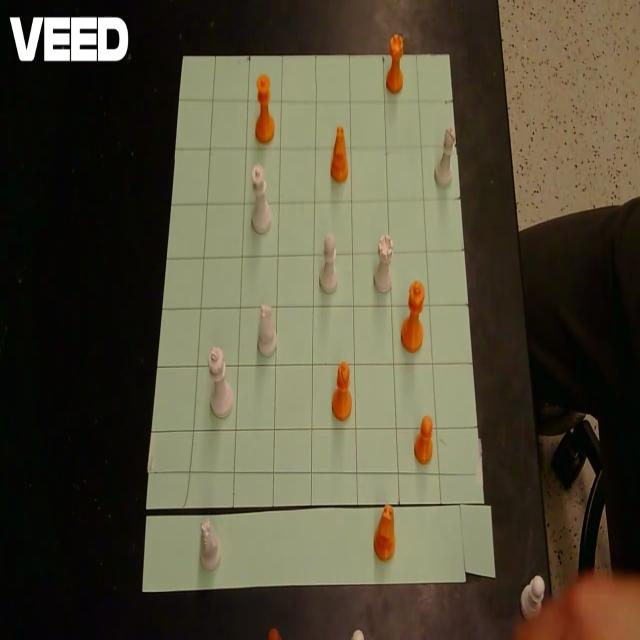orange_bishop: (332, 360, 352, 421)
orange_king: (400, 280, 426, 352)
orange_knight: (374, 503, 396, 561), (331, 126, 348, 182), (268, 628, 281, 640)
orange_pawn: (414, 414, 434, 464)
orange_queen: (255, 74, 274, 143)
orange_rook: (385, 32, 404, 94)
white_bishop: (434, 124, 456, 187), (320, 232, 338, 292)
white_king: (208, 345, 234, 419)
white_knight: (200, 517, 222, 571), (258, 302, 277, 356)
white_pawn: (520, 576, 544, 620), (351, 629, 364, 640)
white_queen: (250, 162, 272, 234)
white_rook: (374, 232, 394, 292)
